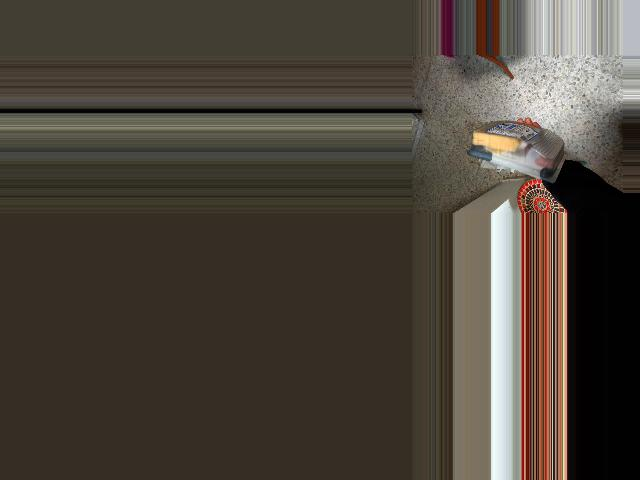cheese: (464, 120, 564, 190)
